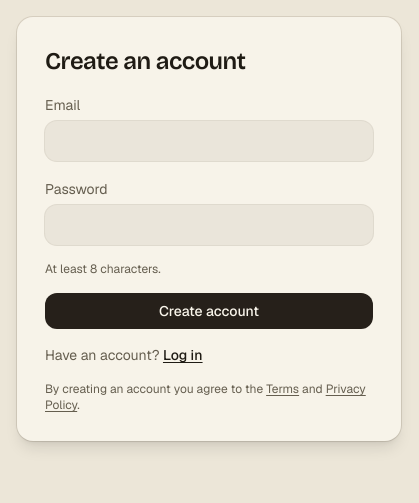
it: SignupForm › keeps keyboard focus on the submit button after a signup error
Type "ann@example.com" into the field labelled "Email" at (209, 141), box [45,121,373,161]
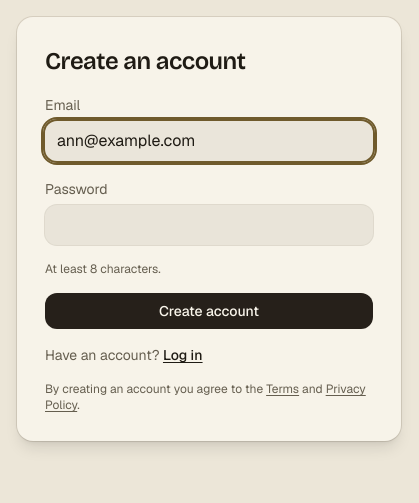
Type "correct-horse" into the password field labelled "Password" at (209, 225), box [45,205,373,245]
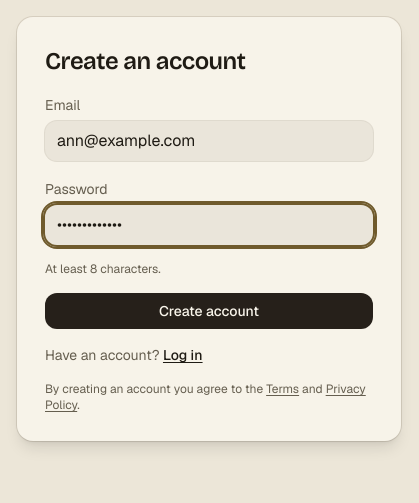
Click the button "Create account" at (209, 311), box [45,293,373,329]
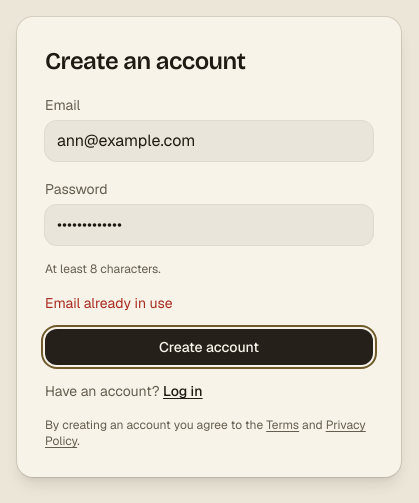
Now the message "Email already in use" is shown, box [45,294,172,312]
